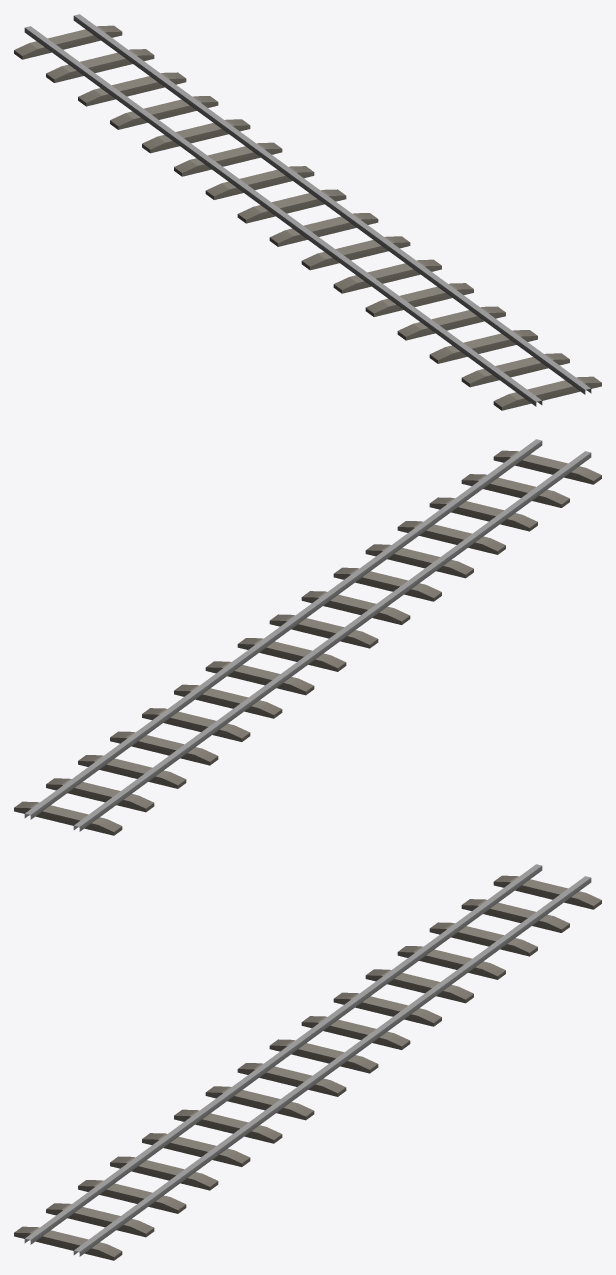
The model's file is Railway_Line_L.fbx.
The picture shows the model from 3 angles, top to bottom: view 1: azimuth 30°, elevation 25°; view 2: azimuth 150°, elevation 25°; view 3: azimuth 330°, elevation 25°; orthographic projection.
Parts seen in each view (by area): view 1: Railway_Line_L; view 2: Railway_Line_L; view 3: Railway_Line_L.
Boxes of the visible parts, x1,y1,x2,y2 form: Railway_Line_L: (14, 14, 601, 410); Railway_Line_L: (14, 439, 601, 835); Railway_Line_L: (14, 864, 601, 1260).
Bounding box in the file's own units: 452 × 51.79 × 4000.
